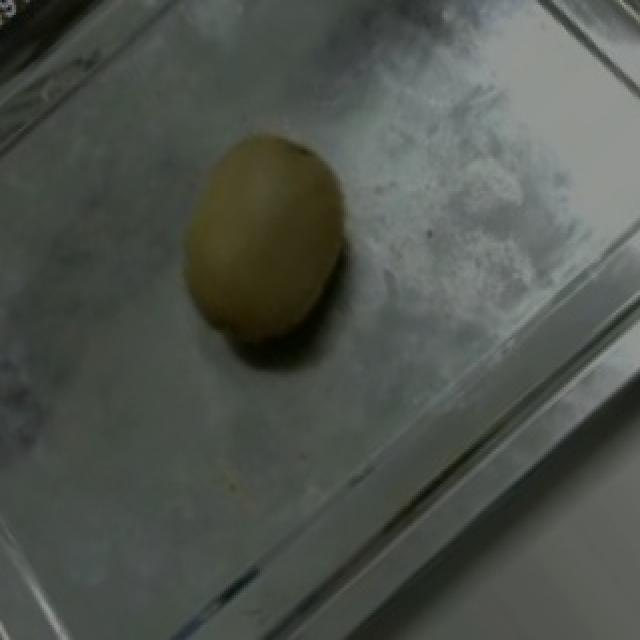Fruit: (136, 104, 386, 394)
